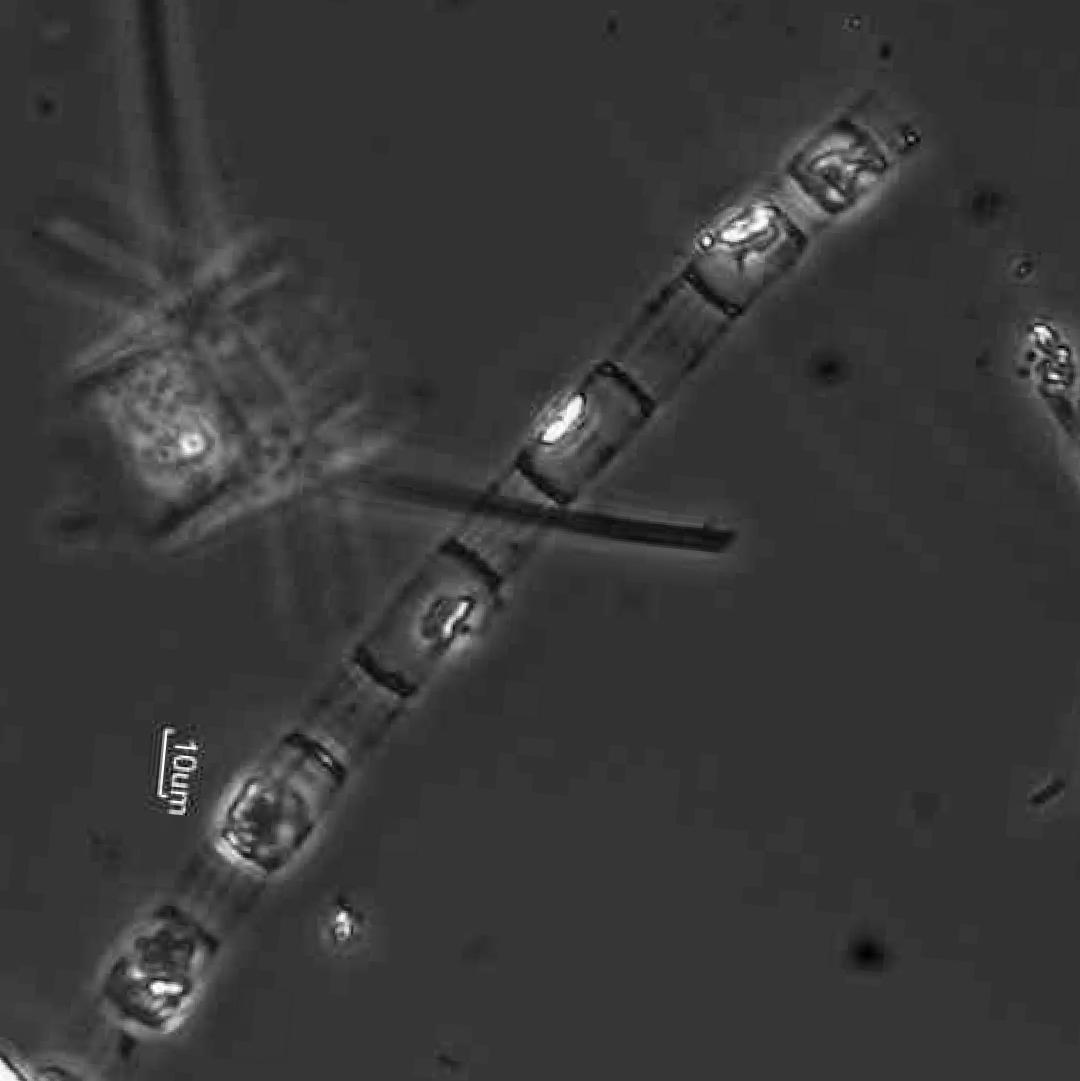skeletonema_costatum: (102, 88, 922, 1030)
